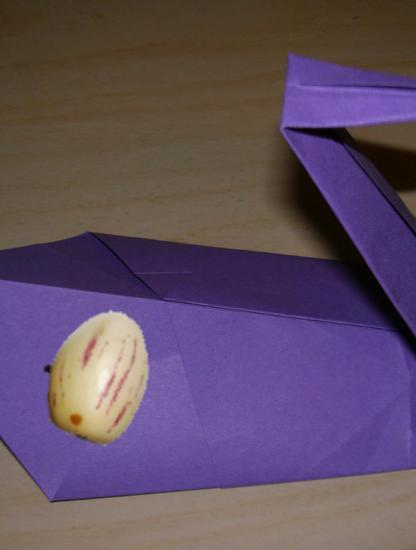Pepino: (27, 309, 164, 446)
